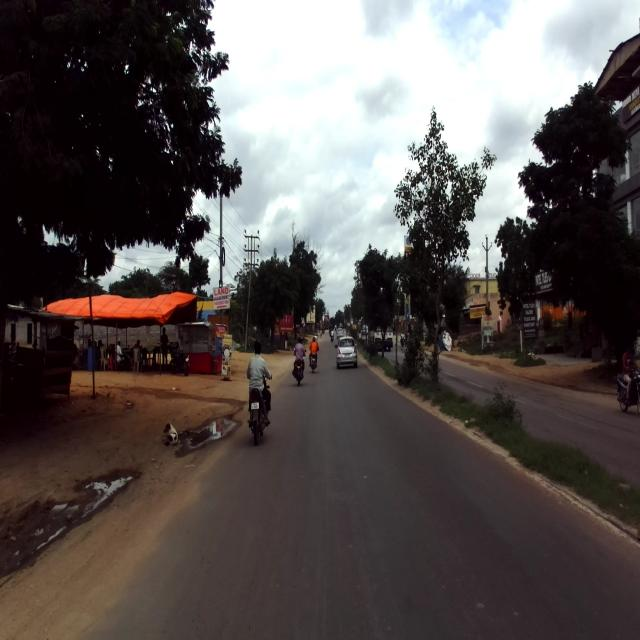Car_Maruti-Suzuki: (334, 334, 358, 369)
motorcycle_Hero: (246, 374, 272, 446)
